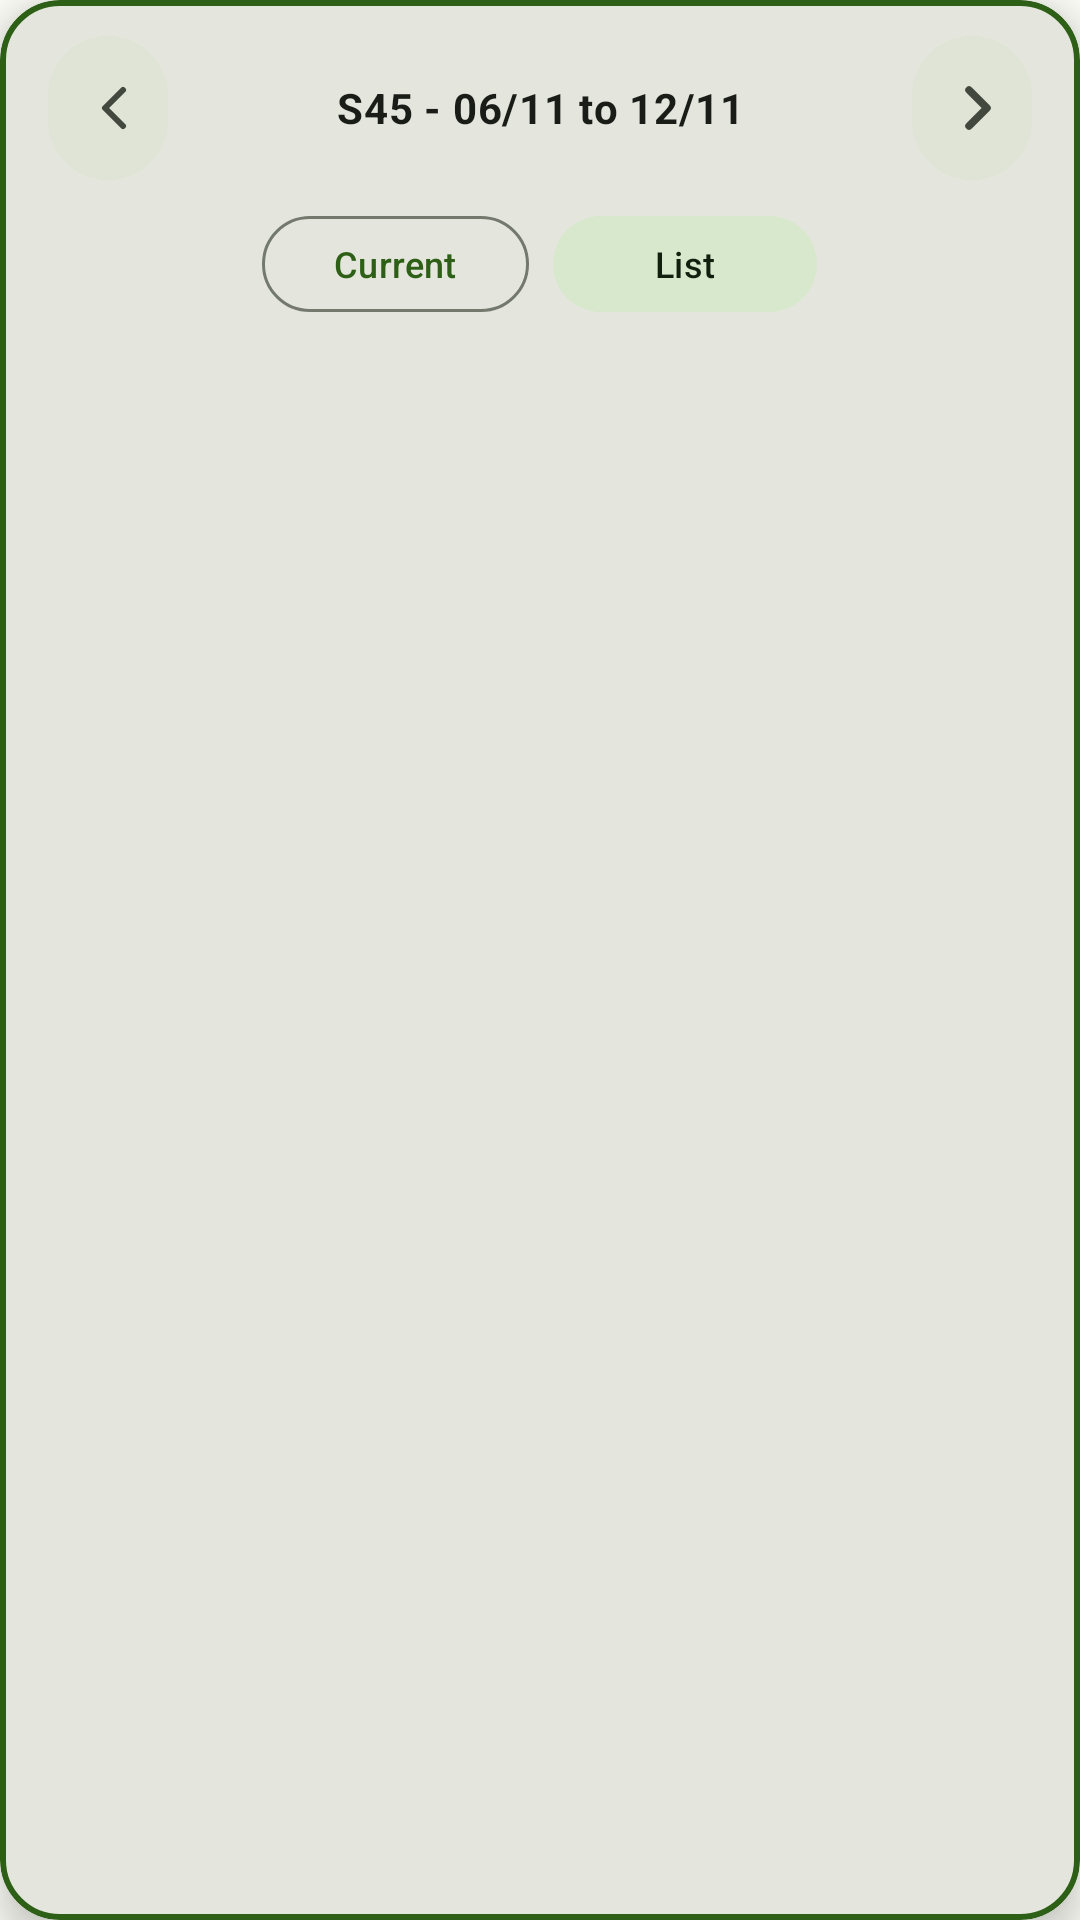

Locate icon controls on the screen. Image size 1080w x 1920h, boxes as (x1, y1, x2, y2).
arrow left: (102, 87, 126, 129)
arrow right: (965, 86, 991, 130)
